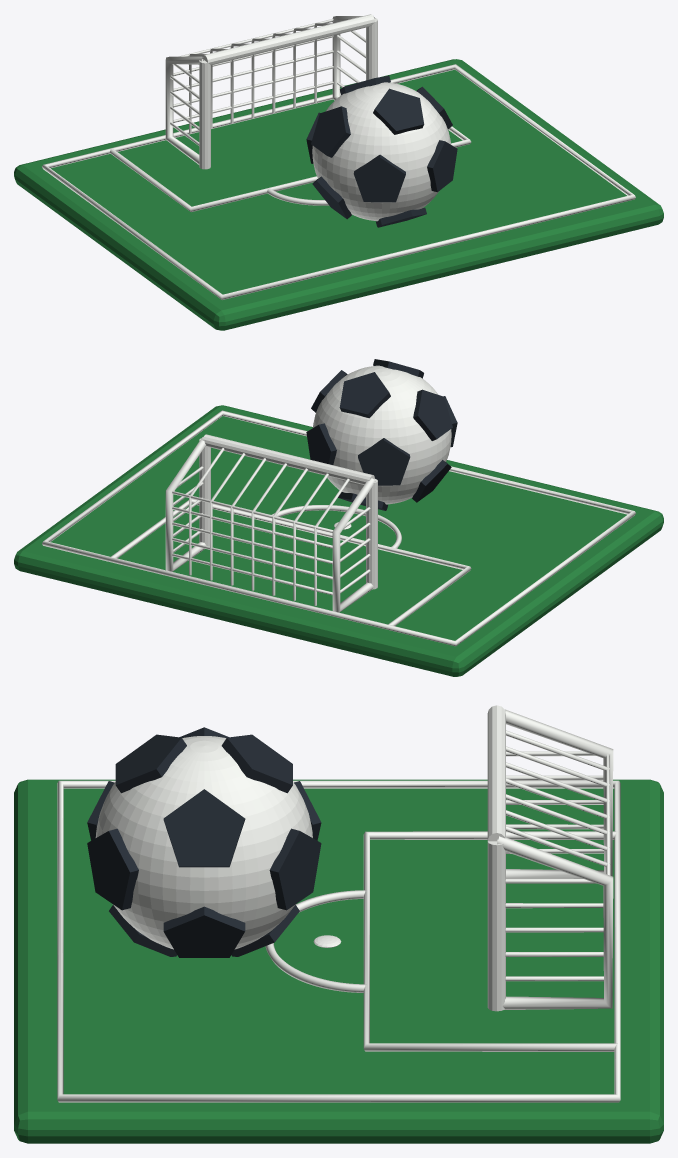
Rendered from soccer.glb.
The picture shows the model from 3 angles, top to bottom: view 1: azimuth 30°, elevation 25°; view 2: azimuth 150°, elevation 25°; view 3: azimuth 270°, elevation 25°; orthographic projection. The views are drawn at different scales.
Visible parts, largest first — view 1: soccer; view 2: soccer; view 3: soccer.
Boxes of the visible parts, left/top/right/bottom form: soccer: left=14, top=14, right=663, bottom=330; soccer: left=14, top=359, right=663, bottom=676; soccer: left=14, top=705, right=663, bottom=1143.
Size of the model in its own units: 0.35 by 0.1139 by 0.28.
